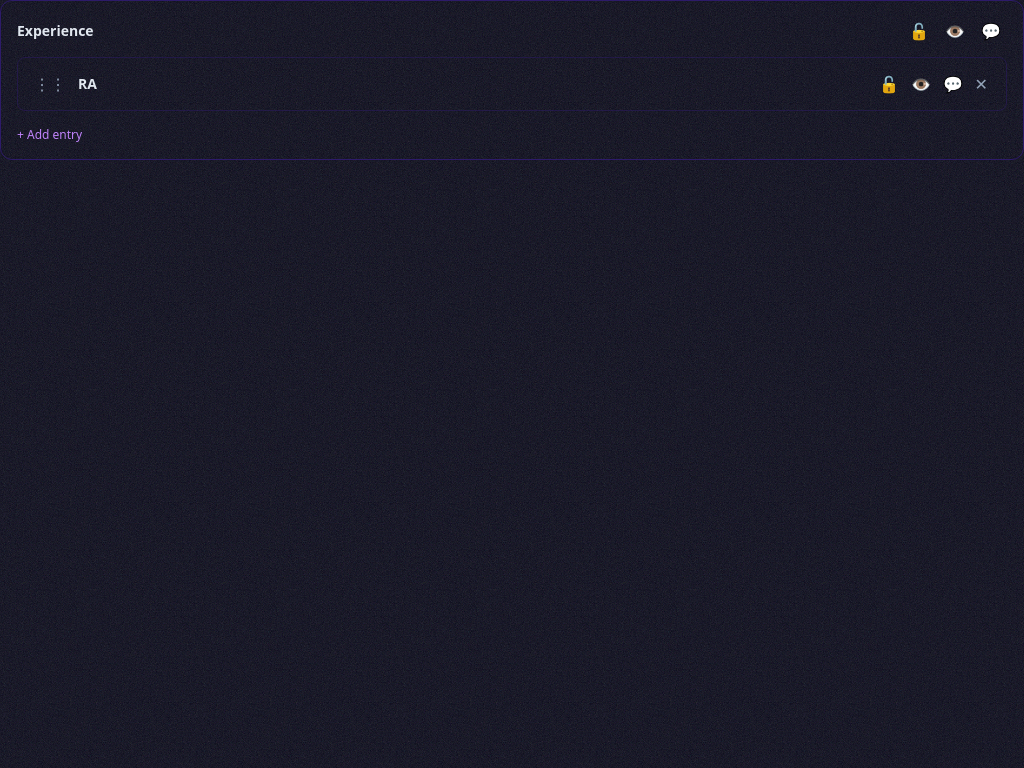
it: opens the prompt modal from the section message icon
Click the button named "Edit section prompt". click: (991, 31)
box: top-left (975, 17), bottom-right (1007, 45)
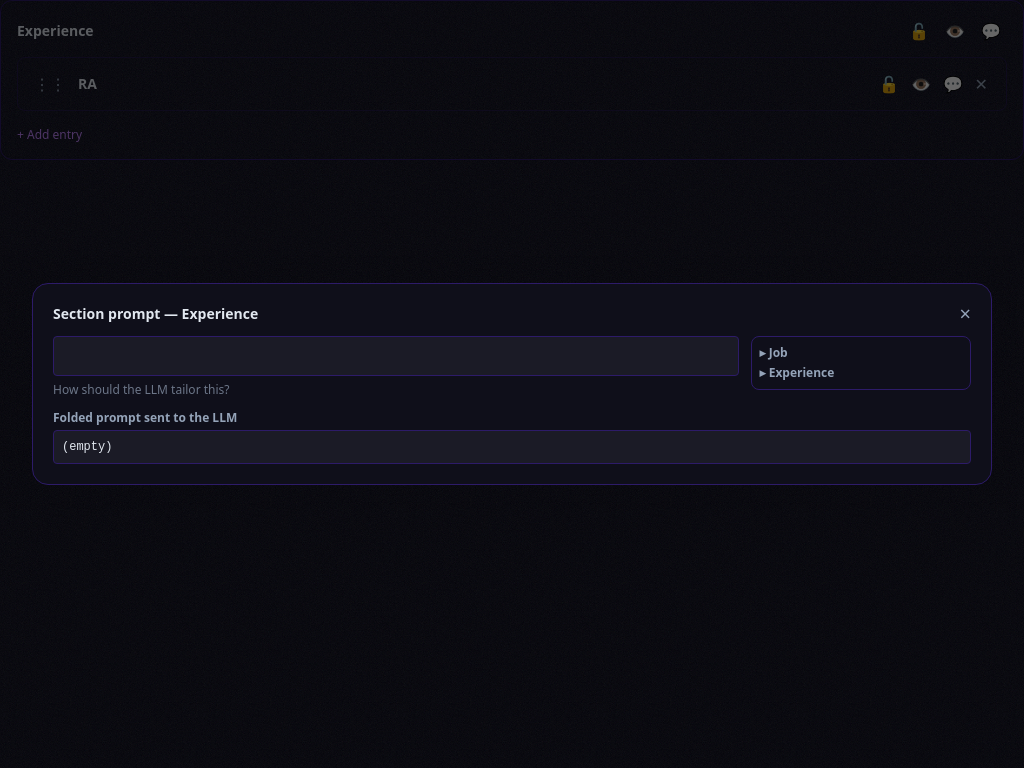
Result: the heading "Section prompt — Experience" is shown at top-left (53, 304), bottom-right (258, 324)
